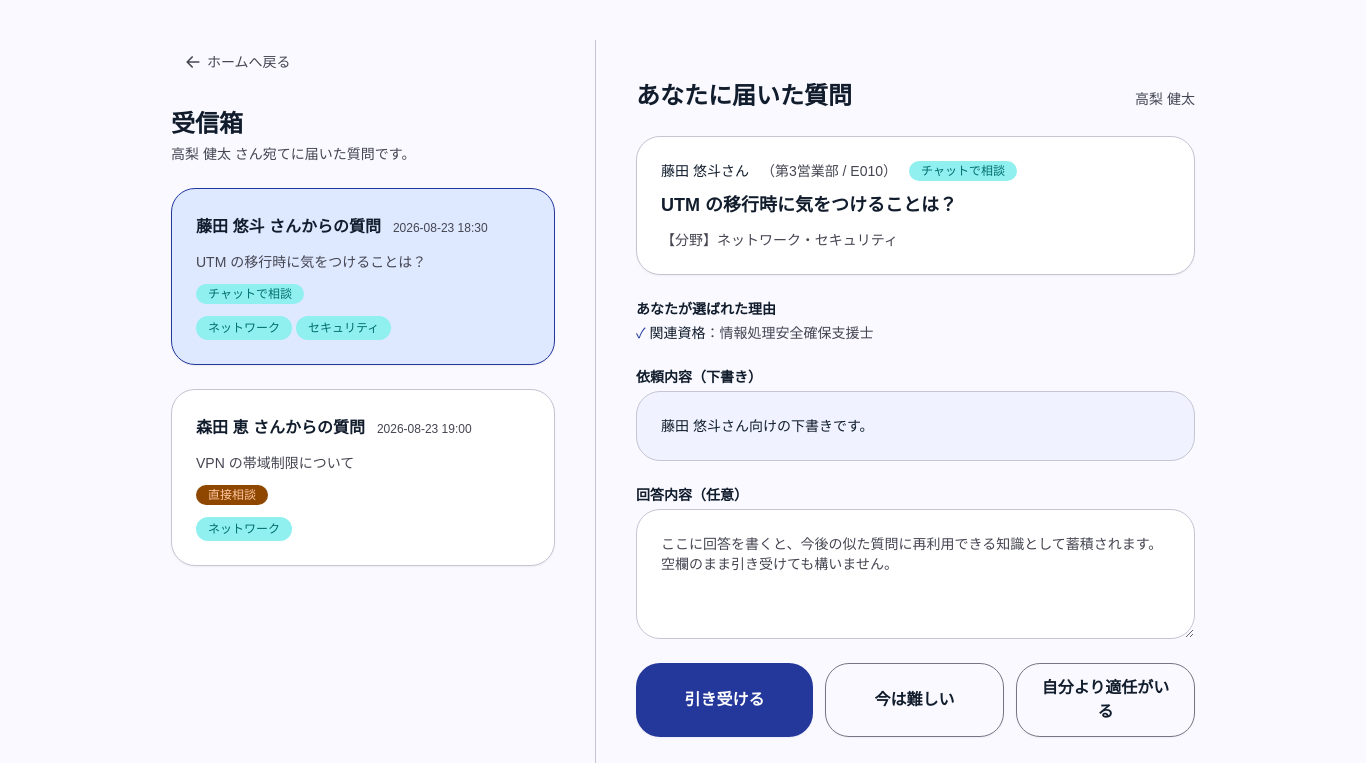
it: InboxScreen › switches the detail pane when a different item is clicked
This screenshot has width=1366, height=763.
Expected: the heading "UTM の移行時に気をつけることは？" is shown, [661, 195, 957, 215]
What coordinates should you click on to do the following:
click the button "森田 恵 さんからの質問 2026-08-23 19:00 VPN の帯域制限について 直接相談 ネットワーク"
I would click on:
 (222, 428)
Its box is [171, 389, 555, 566].
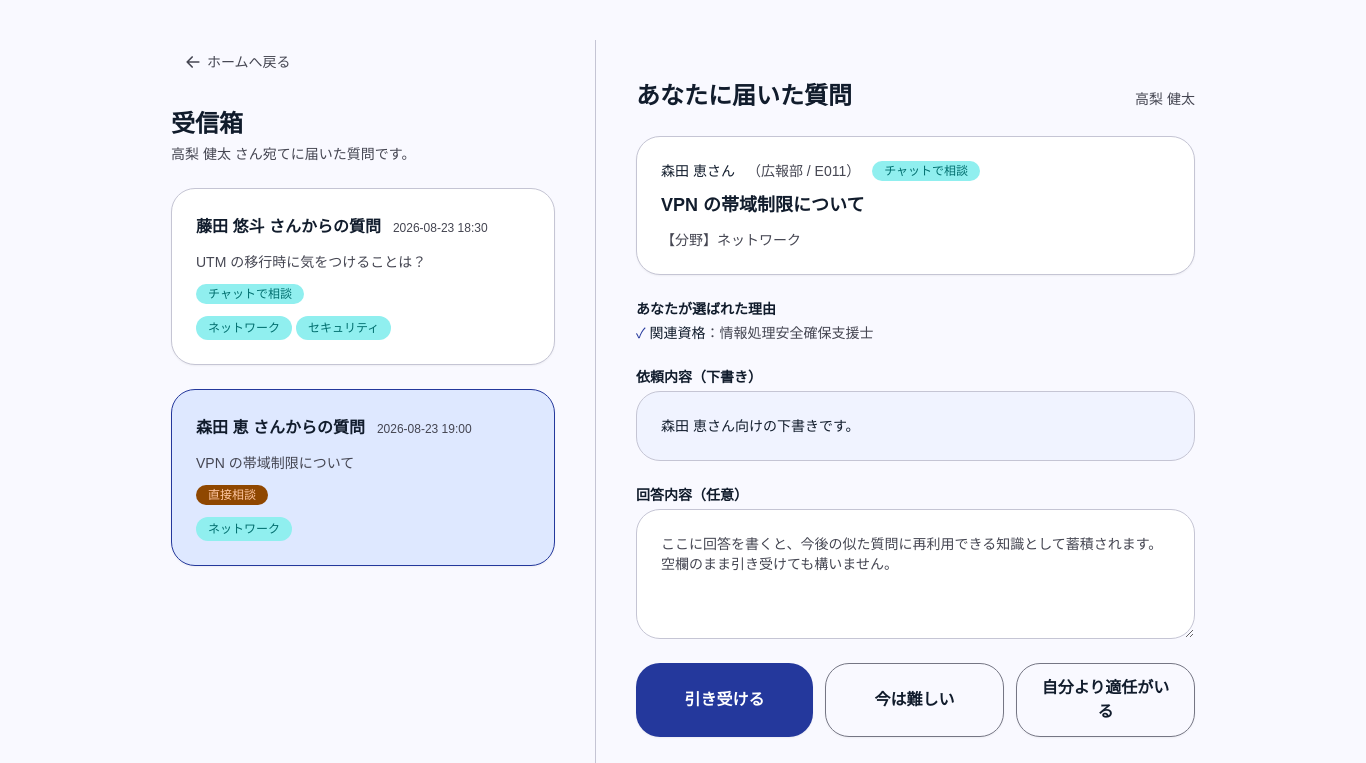
Expected: the heading "VPN の帯域制限について" is shown, [661, 195, 864, 215]
